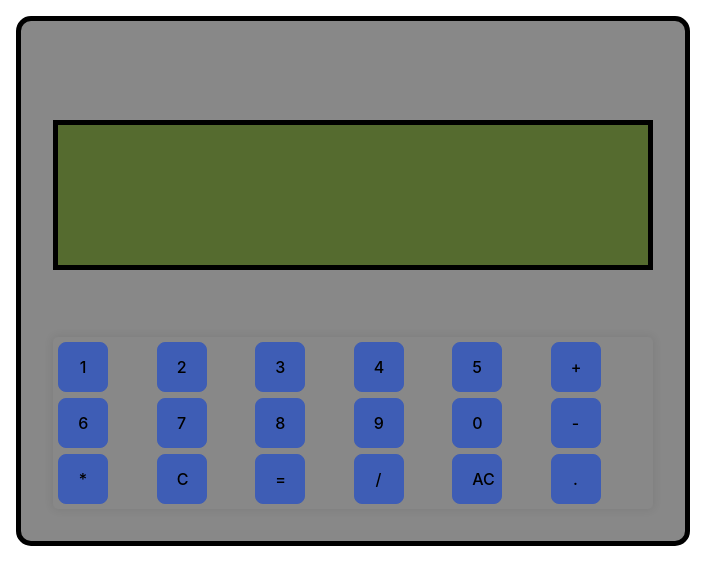
Test: Calculator perfomrs addition
Click the button "1" at (83, 367), box x1=58 y1=342 x2=108 y2=392
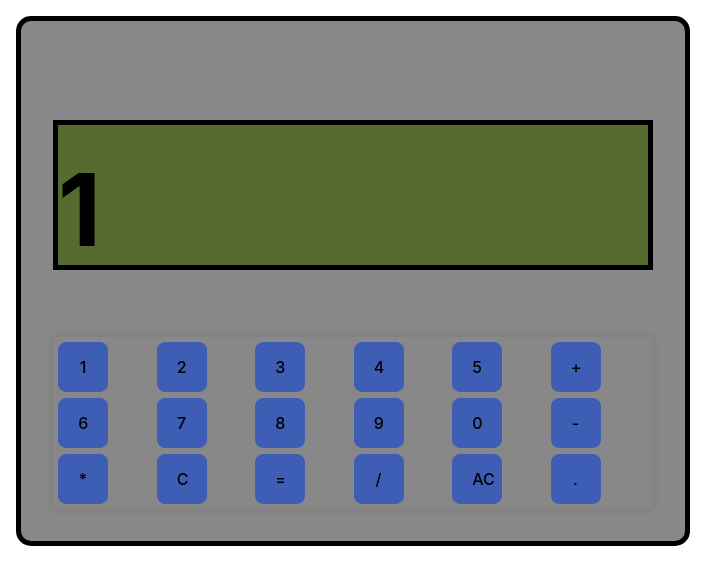
Click the button "2" at (182, 367), box x1=156 y1=342 x2=206 y2=392
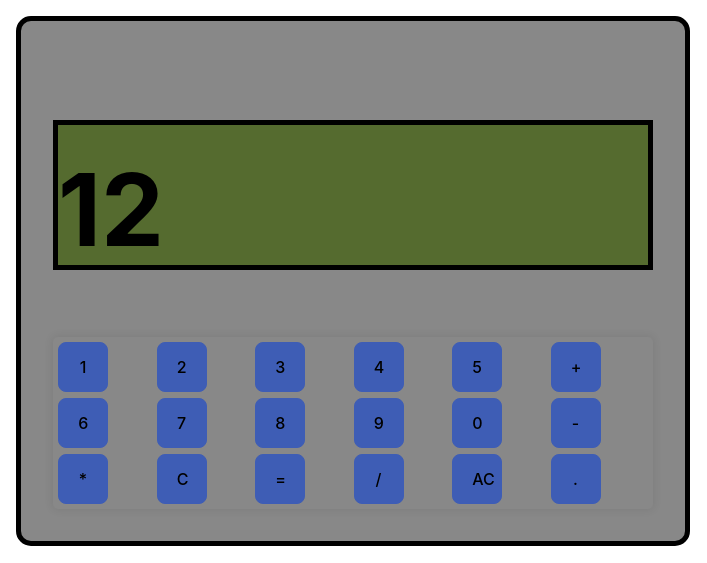
Click the button "+" at (576, 367), box x1=550 y1=342 x2=600 y2=392
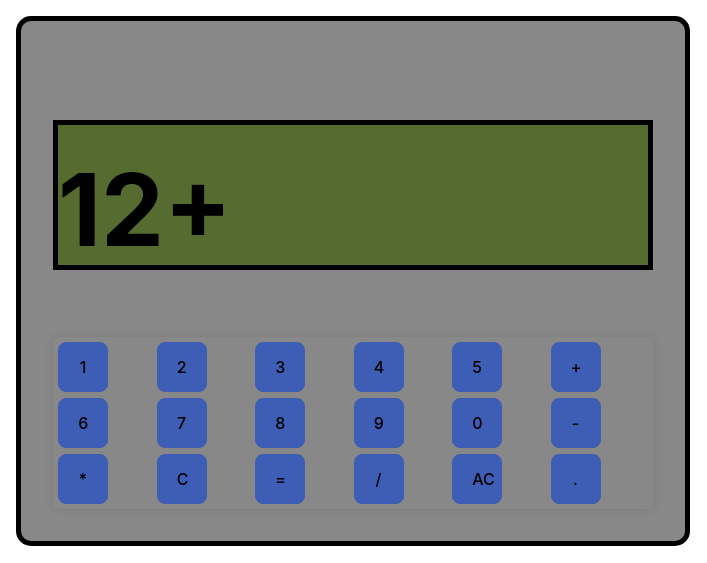
Click the button "3" at (280, 367), box x1=255 y1=342 x2=305 y2=392
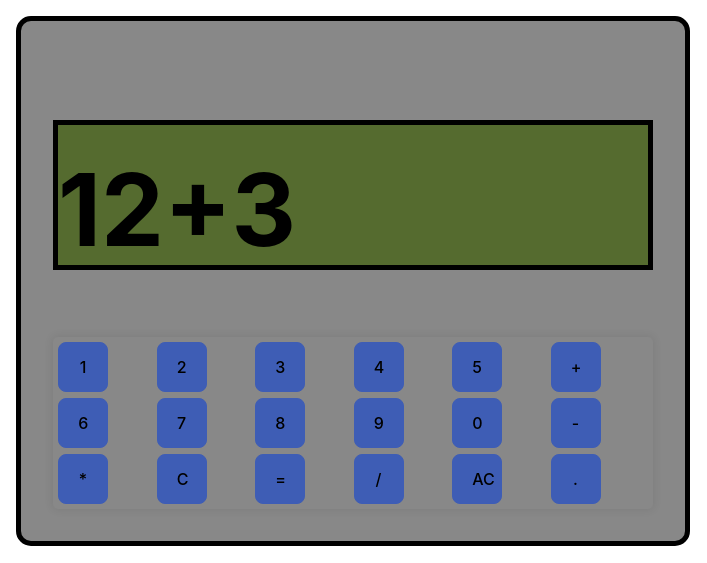
Click the button "=" at (280, 479), box x1=255 y1=454 x2=305 y2=504
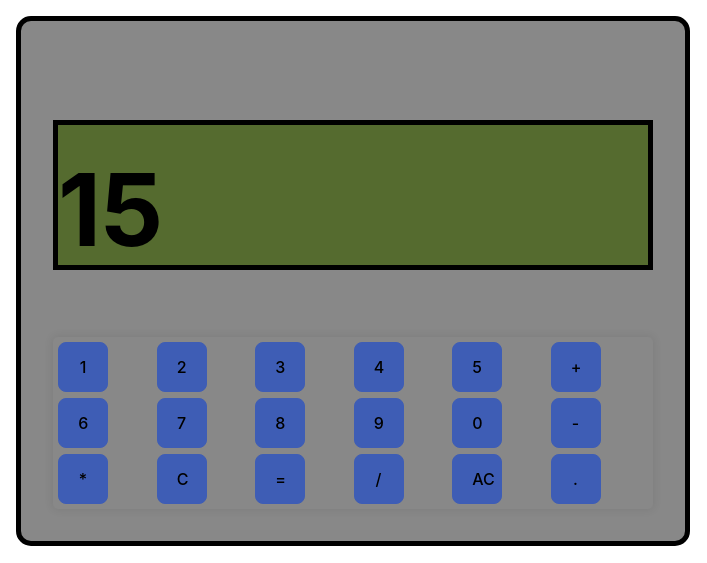
Expected: the heading "15" is shown, x1=53 y1=120 x2=653 y2=270
